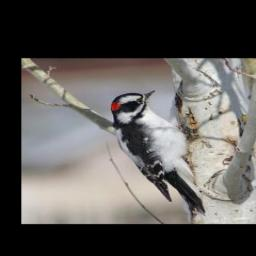Woodpecker: (112, 89, 208, 216)
